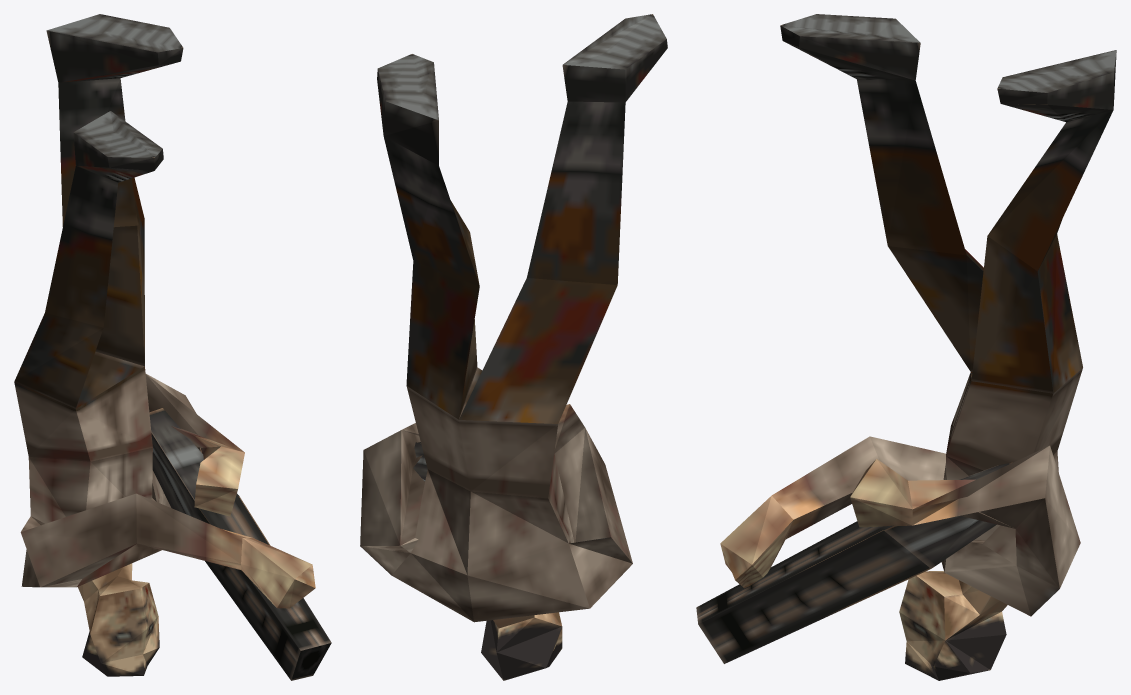
Rendered from GOON_000013.obj.
3 views of the same model, side by side, from view 1: azimuth 30°, elevation 25°; view 2: azimuth 150°, elevation 25°; view 3: azimuth 270°, elevation 25° (orthographic). The views are drawn at different scales.
Parts seen in each view (by area): view 1: Cube_Cube.001; view 2: Cube_Cube.001; view 3: Cube_Cube.001.
Part boxes in pixels (left/top/right/bottom): Cube_Cube.001: left=14, top=14, right=331, bottom=680; Cube_Cube.001: left=360, top=14, right=667, bottom=680; Cube_Cube.001: left=696, top=14, right=1116, bottom=680.
Bounding box in the file's own units: 8.8 × 24.4 × 14.79.
